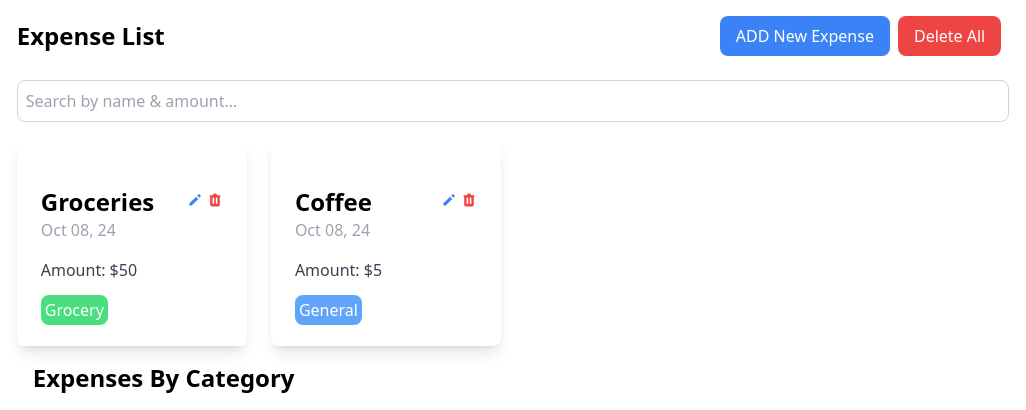
Test case: ExpenseList Component › filters expenses based on search input
This screenshot has width=1026, height=410.
Type "Coffee" into the field named "Search expenses by name" at (513, 101), box x1=17 y1=80 x2=1009 y2=122
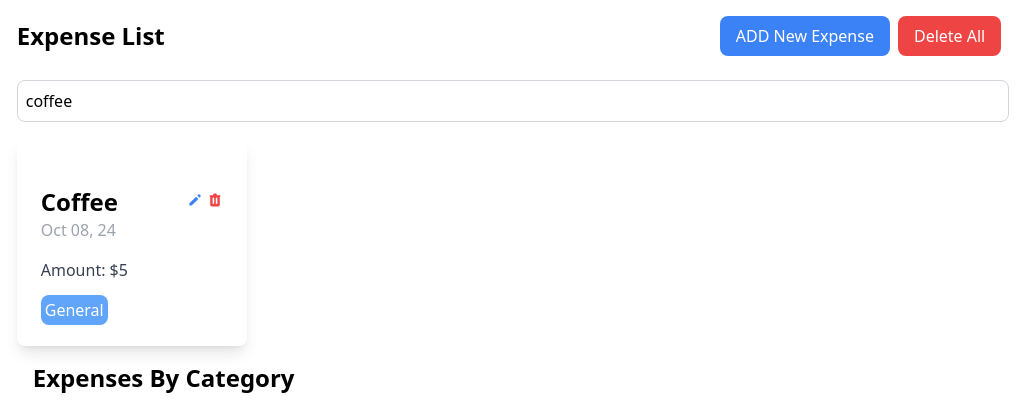
Expected: the heading "Coffee" is shown, x1=41 y1=186 x2=118 y2=218
Result: the heading "Groceries" is gone
